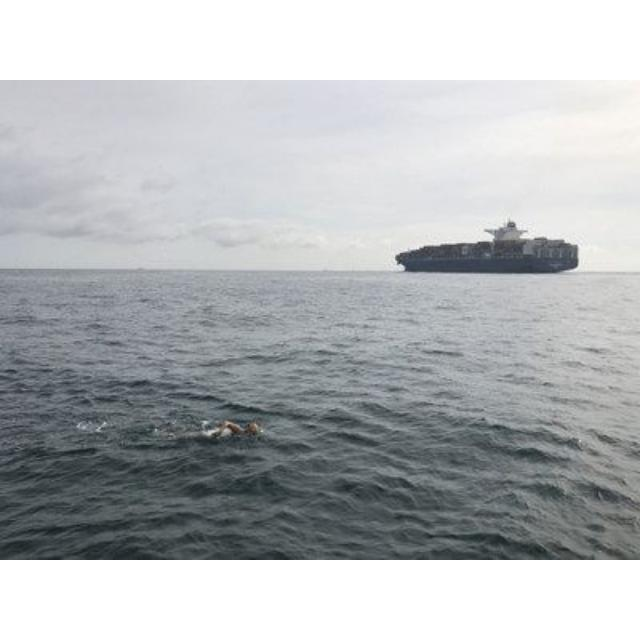human: (216, 415, 260, 437)
